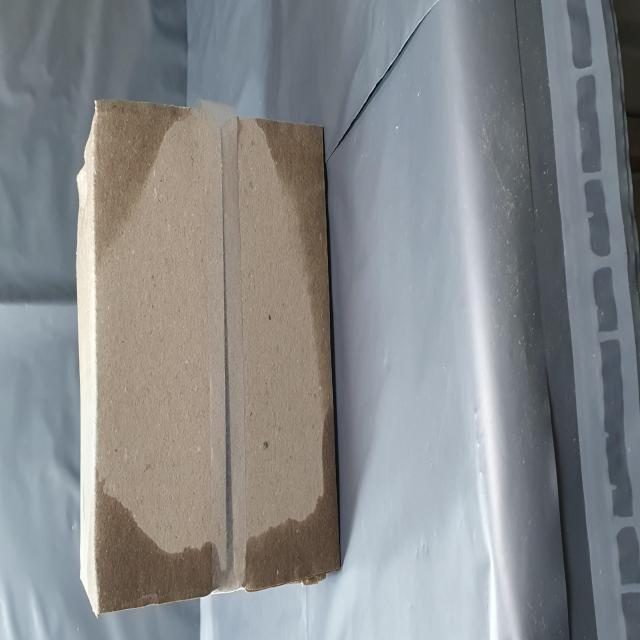wet: (31, 449, 294, 592), (20, 150, 101, 378), (210, 167, 302, 350)
